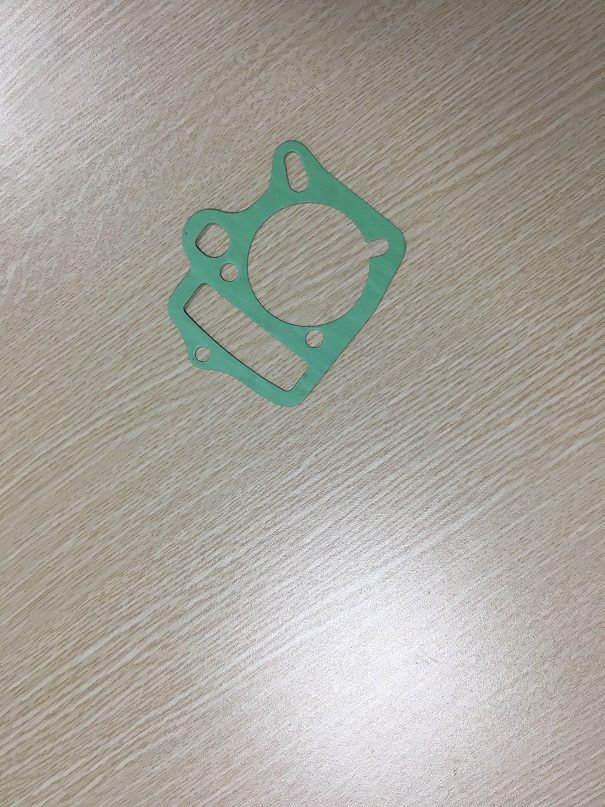type4: (150, 125, 428, 421)
